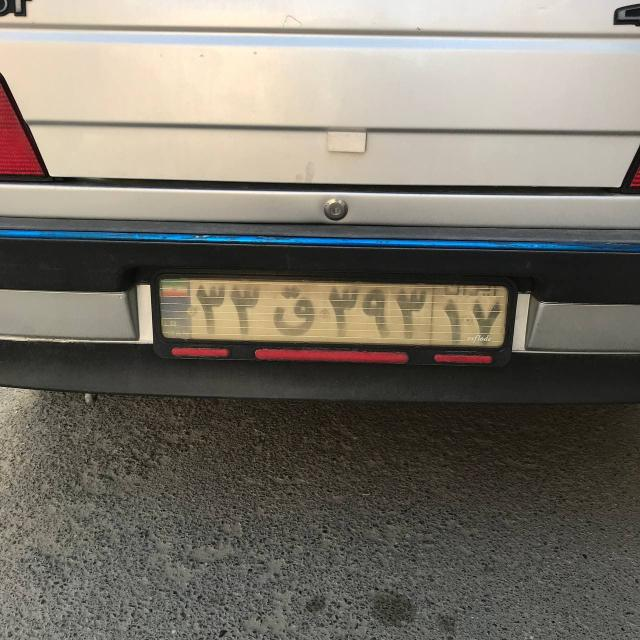Plates: (156, 276, 510, 353)
